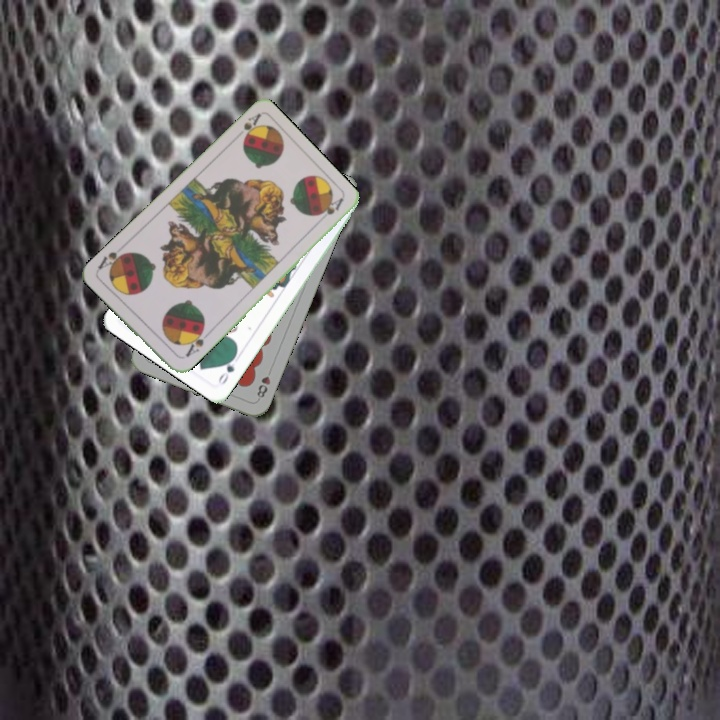GO: (214, 350, 239, 387)
H8: (253, 364, 275, 400)
SA: (181, 325, 211, 360), (238, 110, 263, 144)
